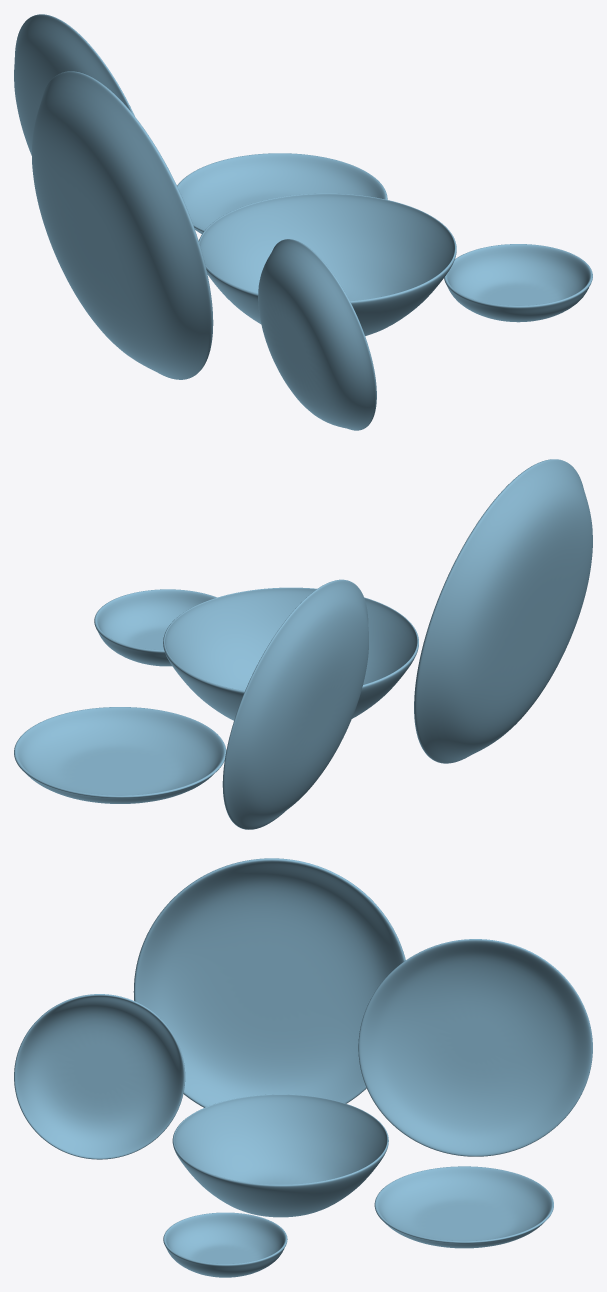
Rendered from gold-edge-set.glb.
3 views of the same model, one above another, from view 1: azimuth 30°, elevation 25°; view 2: azimuth 150°, elevation 25°; view 3: azimuth 270°, elevation 25° (orthographic). The views are drawn at different scales.
Visible parts, largest first — view 1: Circle.006, Circle, Circle.003, Circle.002, Circle.004, Circle.005; view 2: Circle.006, Circle.005, Circle.004, Circle, Circle.002; view 3: Circle.006, Circle.005, Circle.003, Circle, Circle.004, Circle.002.
Boxes of the visible parts, left/top/right/bottom form: Circle.006: left=31, top=71, right=213, bottom=379; Circle: left=199, top=193, right=456, bottom=335; Circle.003: left=258, top=239, right=376, bottom=430; Circle.002: left=444, top=244, right=592, bottom=322; Circle.004: left=177, top=153, right=387, bottom=233; Circle.005: left=14, top=14, right=134, bottom=155; Circle.006: left=414, top=459, right=592, bottom=763; Circle.005: left=222, top=579, right=368, bottom=829; Circle.004: left=14, top=707, right=226, bottom=803; Circle: left=163, top=587, right=418, bottom=720; Circle.002: left=94, top=589, right=216, bottom=666; Circle.006: left=133, top=858, right=405, bottom=1107; Circle.005: left=358, top=939, right=592, bottom=1156; Circle.003: left=14, top=994, right=185, bottom=1159; Circle: left=172, top=1094, right=388, bottom=1217; Circle.004: left=374, top=1166, right=553, bottom=1248; Circle.002: left=163, top=1212, right=287, bottom=1277.
Size of the model in its own units: 0.4984 by 0.2959 by 0.6292.
